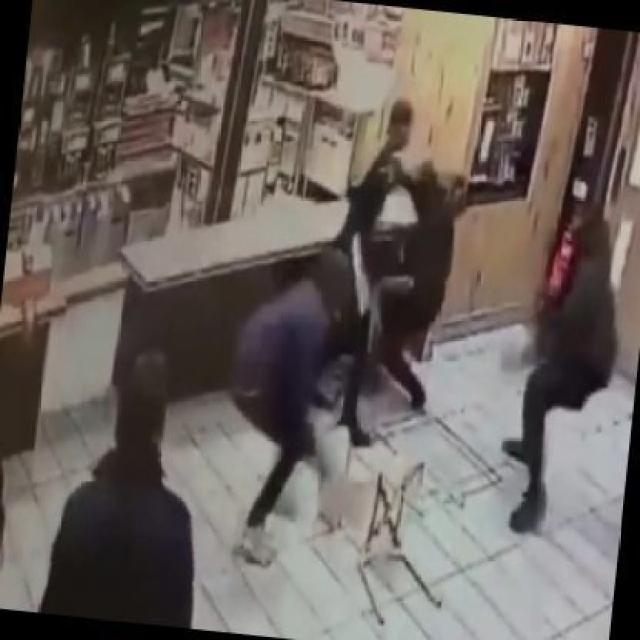fight: (231, 68, 461, 568)
non-fight: (506, 206, 614, 540)
